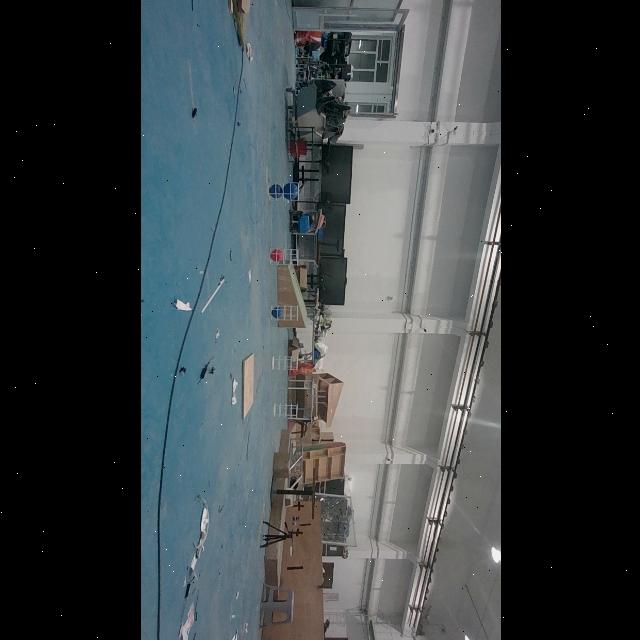B: (283, 182, 297, 200), (268, 184, 282, 198), (270, 306, 282, 318)
R: (269, 250, 281, 262)
S: (266, 179, 300, 203), (266, 302, 300, 322), (267, 246, 299, 266), (269, 354, 299, 372), (270, 401, 298, 419)
